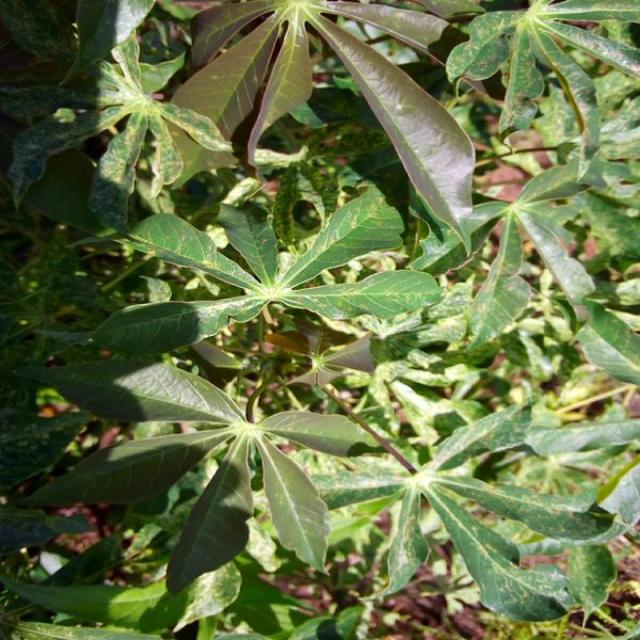cassava leaf: (2, 1, 637, 632), (23, 353, 406, 595)
